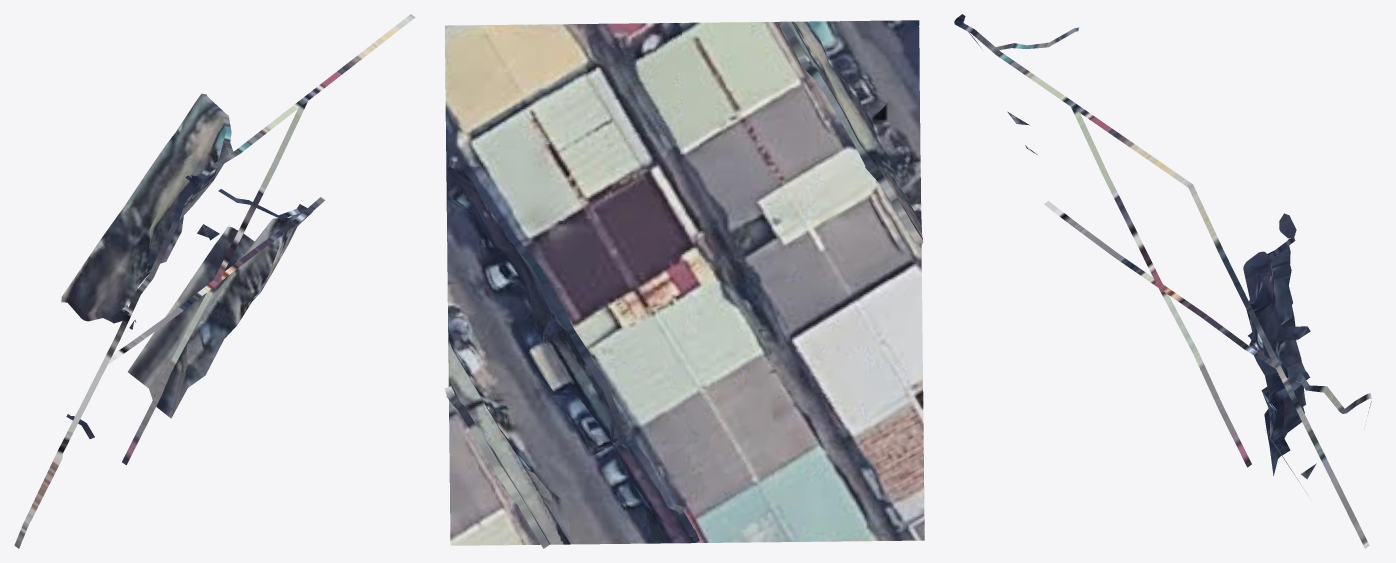
The picture shows the model from 3 angles, left to right: view 1: azimuth 30°, elevation 25°; view 2: azimuth 150°, elevation 25°; view 3: azimuth 270°, elevation 25°; orthographic projection. The views are drawn at different scales.
Bounding box in the file's own units: 38.12 × 37.03 × 32.92.
1 material, 1 textured.
